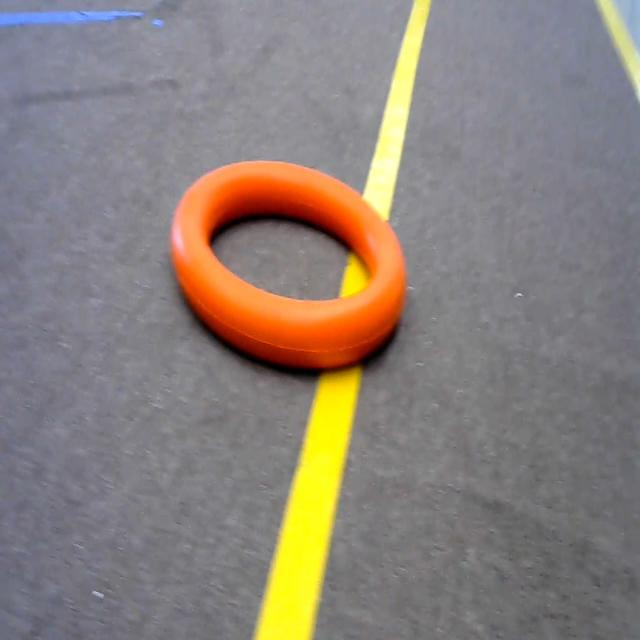note: (147, 138, 439, 389)
